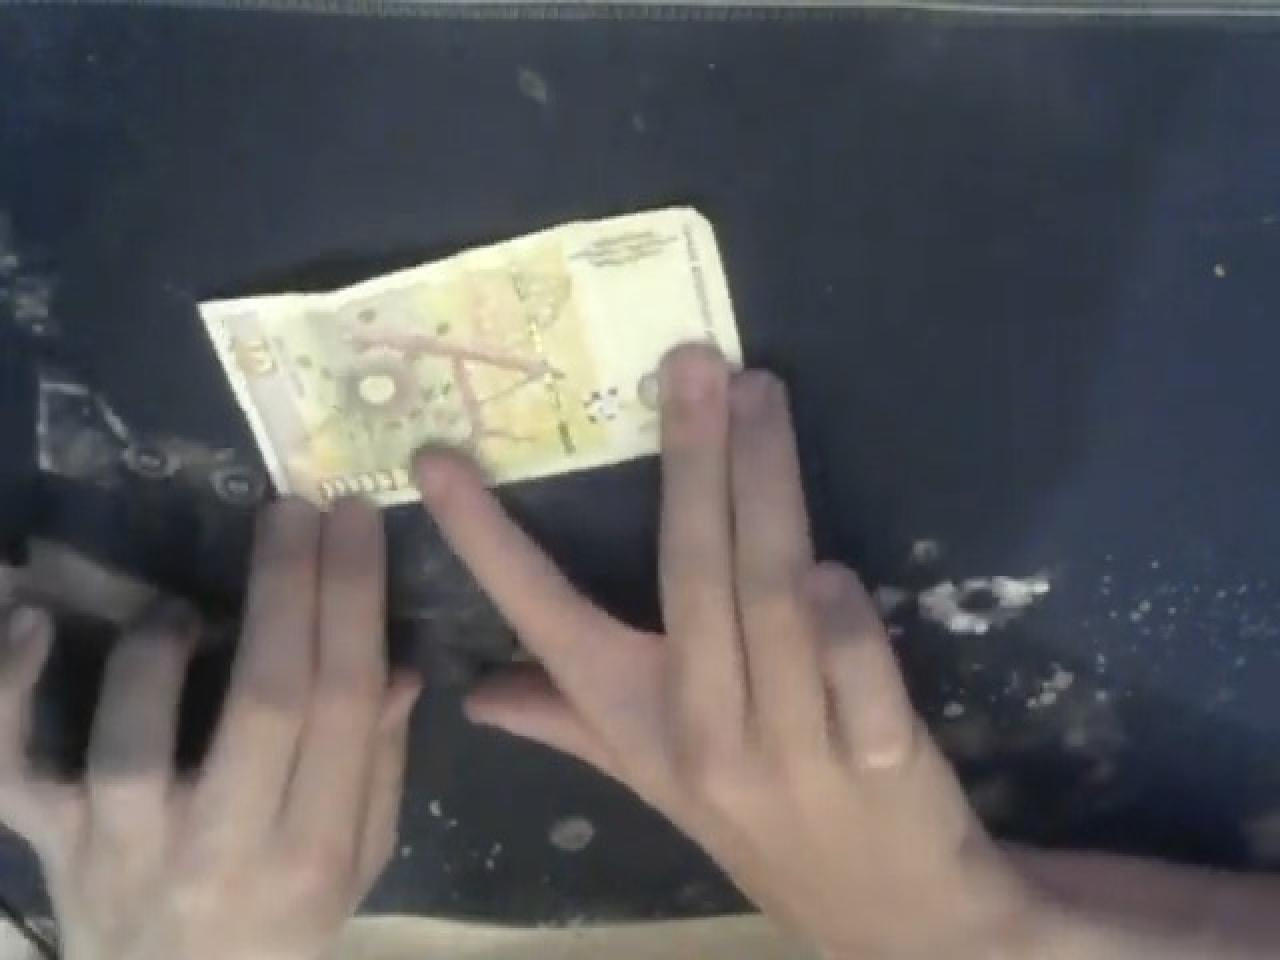10leva: (191, 200, 746, 506)
